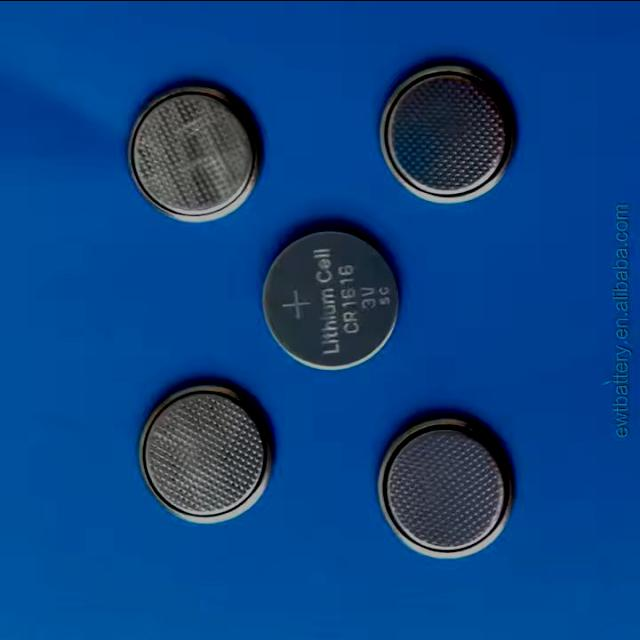COIN: (375, 411, 521, 563), (258, 224, 406, 372), (122, 80, 269, 227), (134, 379, 279, 527), (376, 58, 521, 205)
